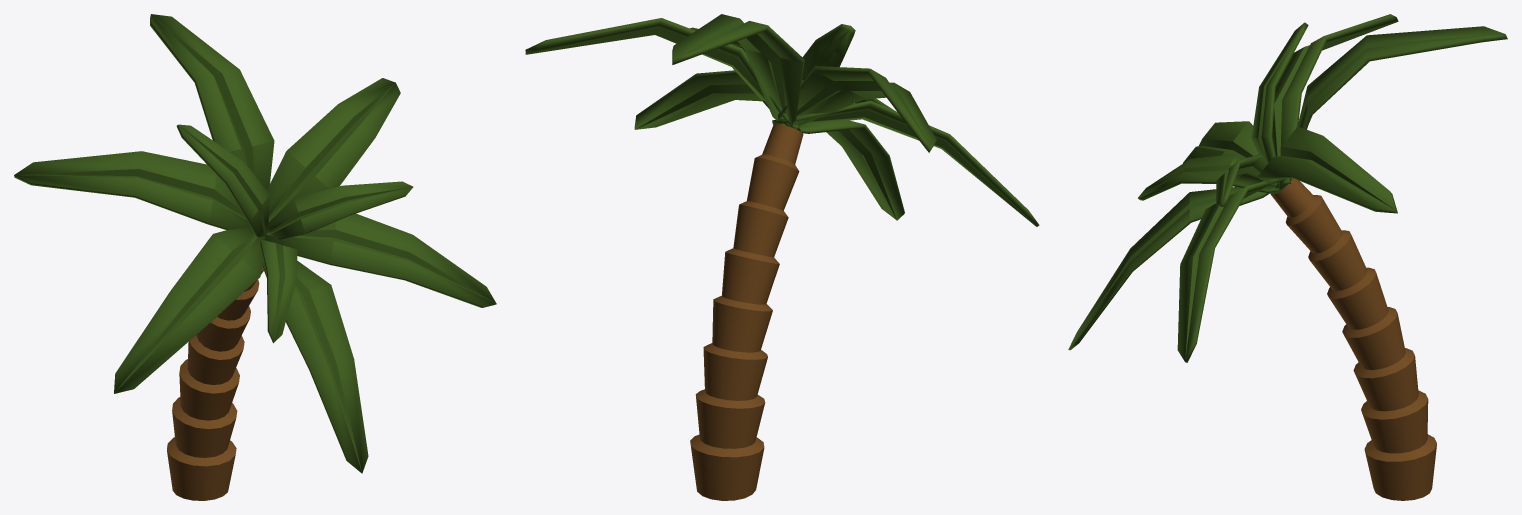
The model's file is tree_01.fbx.
3 renders of one model, left to right at view 1: azimuth 30°, elevation 25°; view 2: azimuth 150°, elevation 25°; view 3: azimuth 270°, elevation 25°, orthographic. The views are drawn at different scales.
Visible parts, largest first — view 1: Cylinder; view 2: Cylinder; view 3: Cylinder.
Boxes of the visible parts, box(x1,y1,x2,y2) form: Cylinder: box(14, 14, 496, 500); Cylinder: box(525, 14, 1039, 500); Cylinder: box(1068, 14, 1507, 500).
Size of the model in its own units: 1562 by 1724 by 1503.
